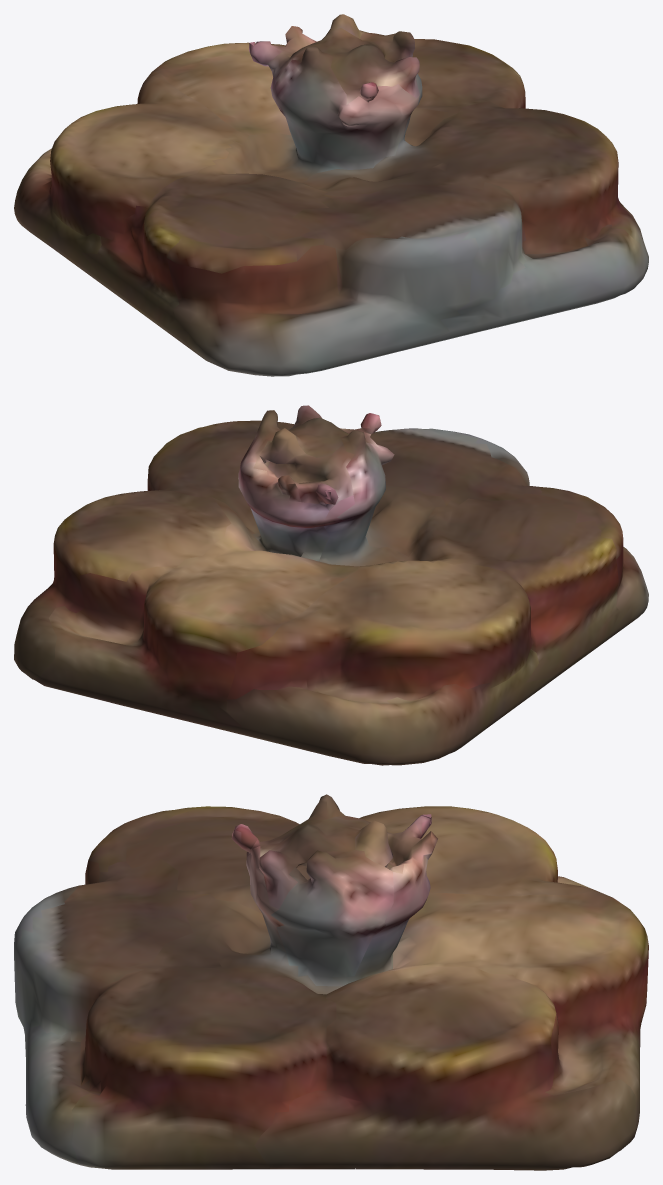
Rendered from s01_vitorias_regias.glb.
3 renders of one model, top to bottom at view 1: azimuth 30°, elevation 25°; view 2: azimuth 150°, elevation 25°; view 3: azimuth 270°, elevation 25°, orthographic. The views are drawn at different scales.
Parts seen in each view (by area): view 1: s01_vitorias_regias; view 2: s01_vitorias_regias; view 3: s01_vitorias_regias.
Part boxes in pixels (<box>): s01_vitorias_regias: <box>14,14,648,376</box>; s01_vitorias_regias: <box>14,405,648,765</box>; s01_vitorias_regias: <box>14,794,648,1170</box>.
Bounding box in the file's own units: 0.9171 × 0.4129 × 0.9614.
Materials: 1 (1 with a texture image).
